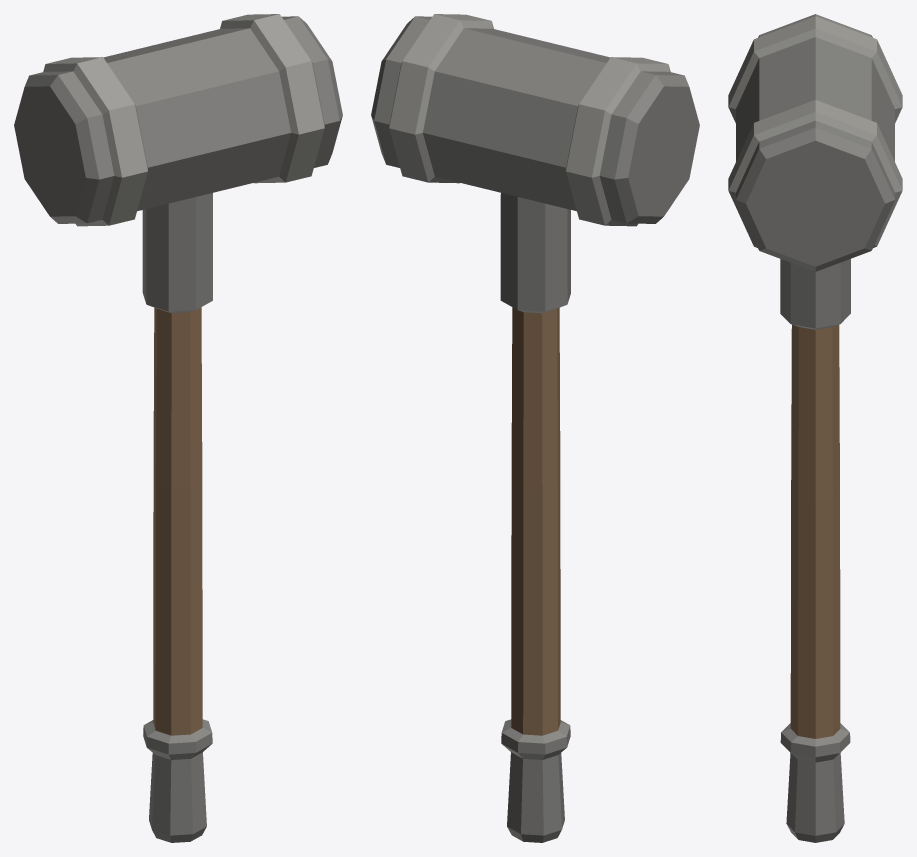
Rendered from SM_pwe_gauls_hammer_03.fbx.
The picture shows the model from 3 angles, left to right: view 1: azimuth 30°, elevation 25°; view 2: azimuth 150°, elevation 25°; view 3: azimuth 270°, elevation 25°; orthographic projection. The views are drawn at different scales.
Visible parts, largest first — view 1: SM_pwe_gauls_hammer_03; view 2: SM_pwe_gauls_hammer_03; view 3: SM_pwe_gauls_hammer_03.
Boxes of the visible parts, bbox=[...] form: SM_pwe_gauls_hammer_03: bbox=[14, 14, 342, 842]; SM_pwe_gauls_hammer_03: bbox=[371, 14, 699, 842]; SM_pwe_gauls_hammer_03: bbox=[728, 14, 902, 842].
Bounding box in the file's own units: 26.05 × 77.66 × 15.78.
